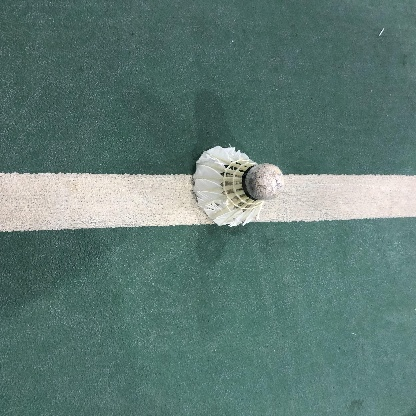ball_single: (193, 146, 284, 227)
